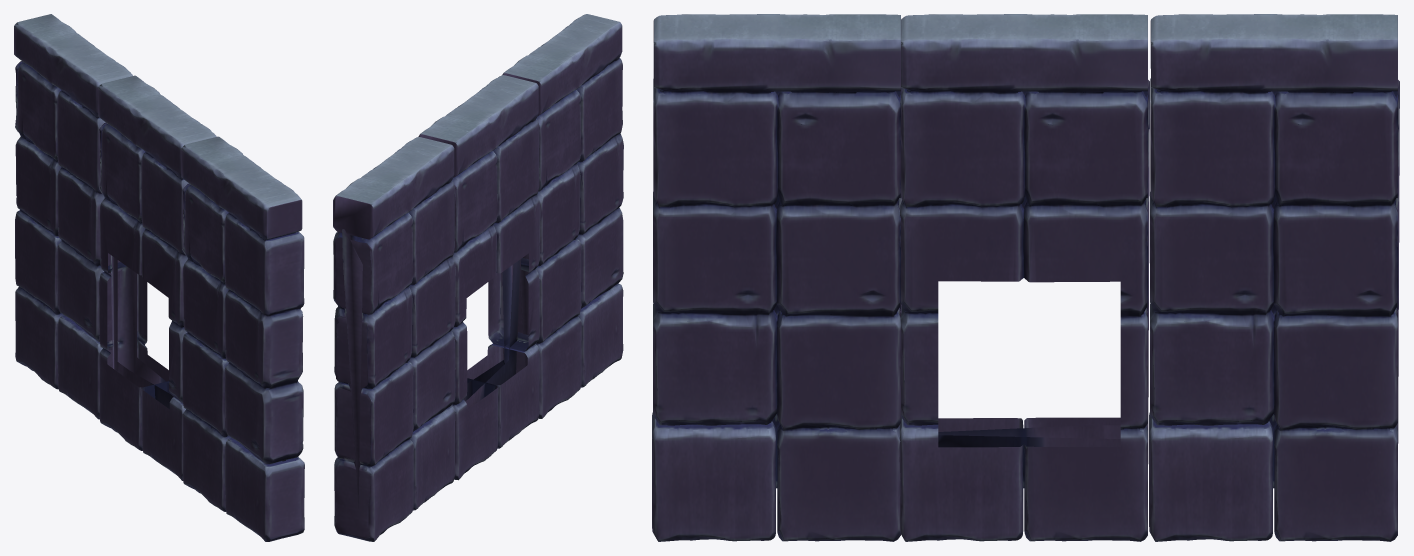
File: windowHoleSquare.glb
3 views of the same model, side by side, from view 1: azimuth 30°, elevation 25°; view 2: azimuth 150°, elevation 25°; view 3: azimuth 270°, elevation 25° (orthographic). The views are drawn at different scales.
Parts seen in each view (by area): view 1: Wall_01_lambert10_0.003; view 2: Wall_01_lambert10_0.003; view 3: Wall_01_lambert10_0.003.
Boxes of the visible parts, x1,y1,x2,y2 form: Wall_01_lambert10_0.003: (14,14,304,541); Wall_01_lambert10_0.003: (333,14,623,541); Wall_01_lambert10_0.003: (652,14,1399,541).
Bounding box in the file's own units: 0.0829 × 0.6376 × 0.8603.
Materials: 3 (3 with a texture image).
